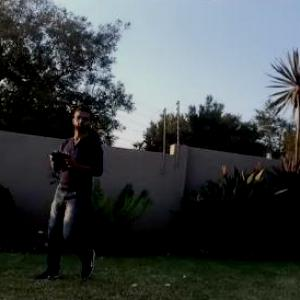follow: (26, 93, 106, 284)
